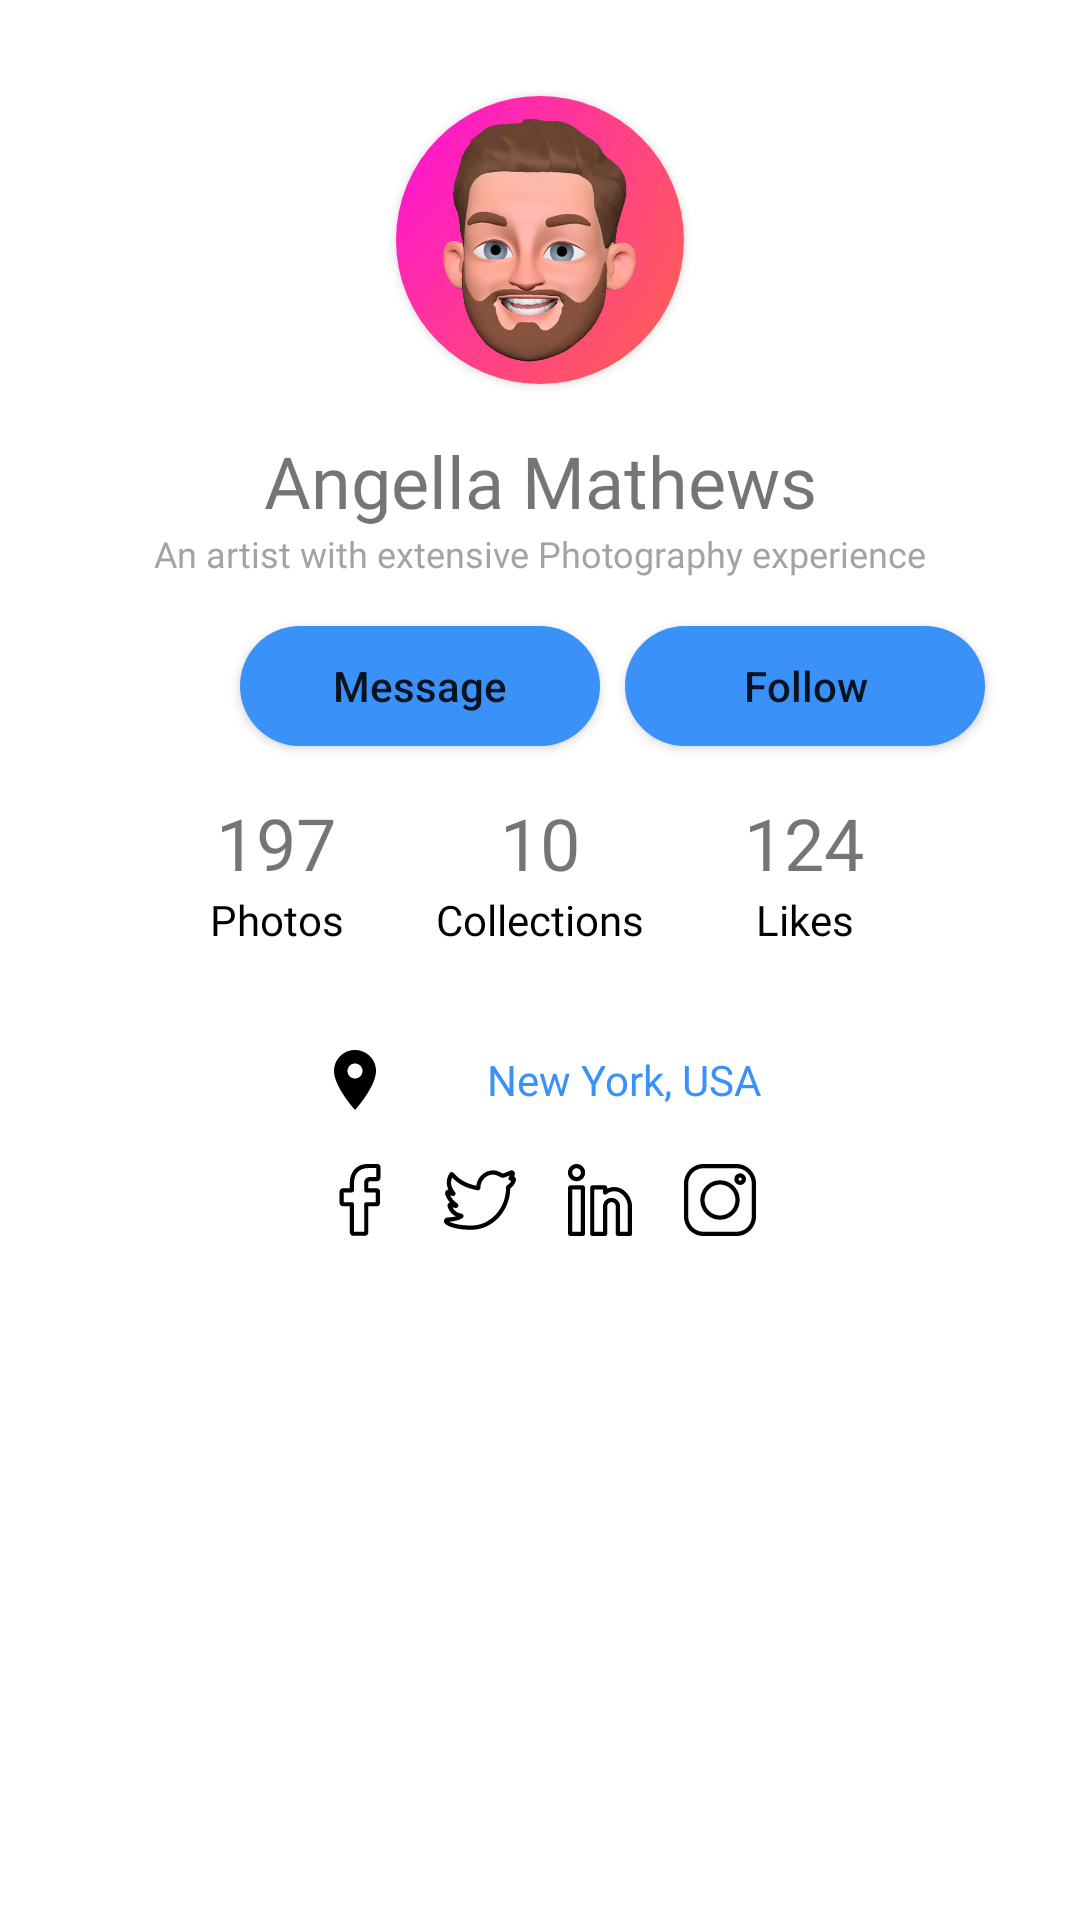

Point at icon controls on the screen. Image size 1080 x 1920, points as [x,y].
location: [355,1080]
